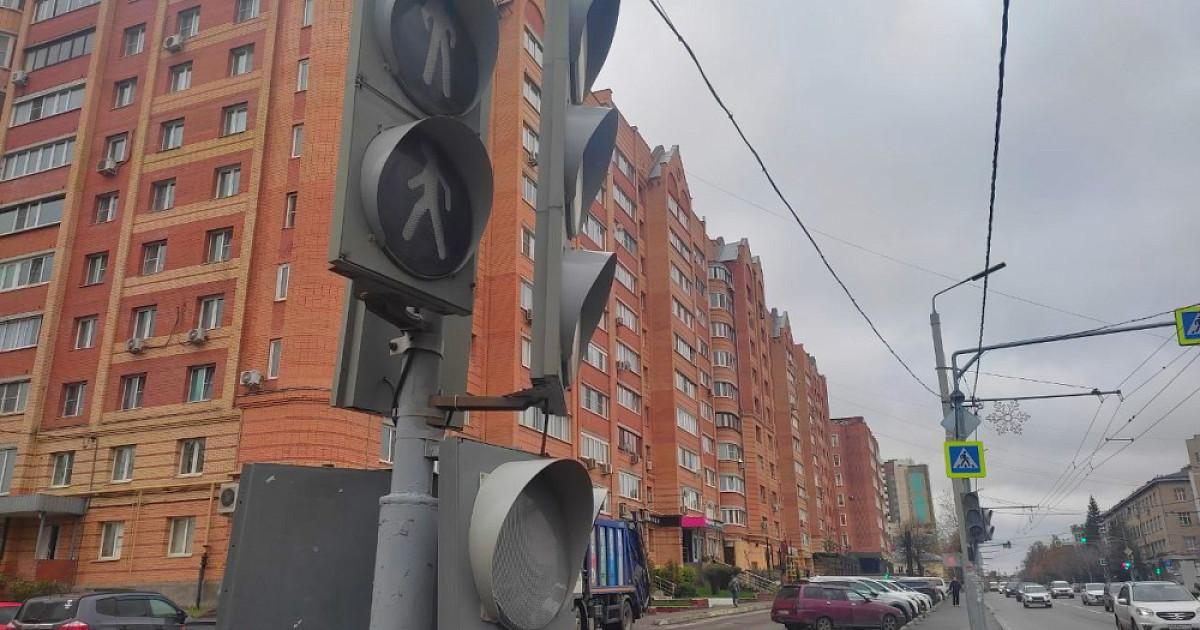obstructed_road_sign: (1174, 305, 1200, 345)
off traffic light: (327, 0, 500, 317), (528, 0, 622, 420), (437, 435, 592, 627), (960, 492, 986, 542)
road_sign: (944, 440, 987, 477)
